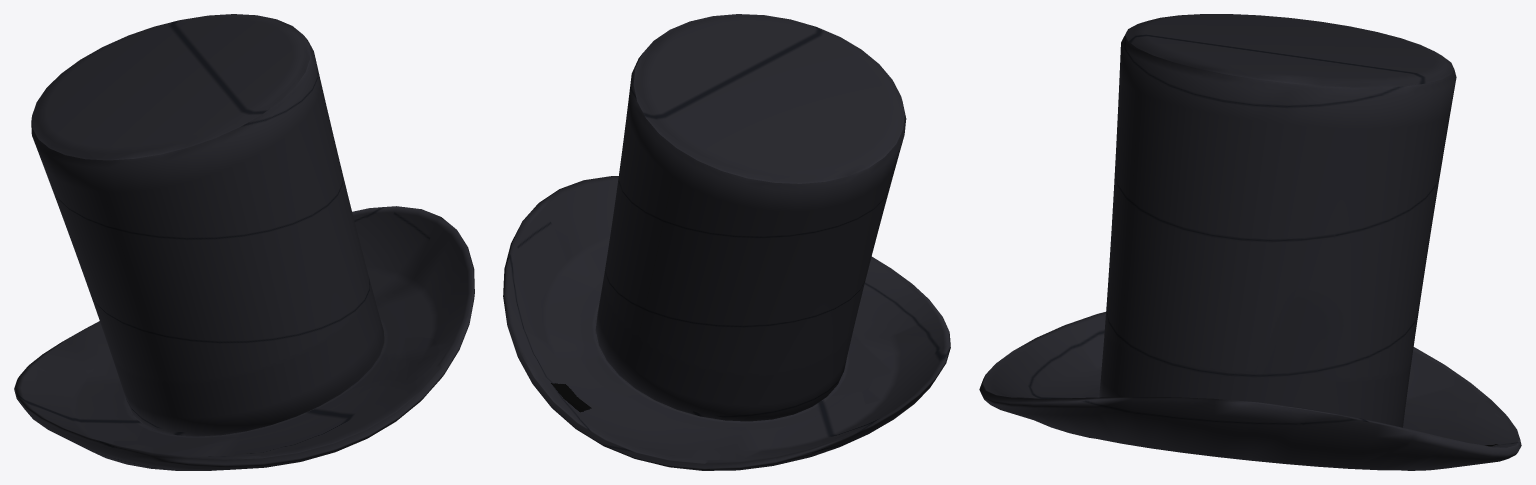
Rendered from Mascarada_Sombrero.fbx.
3 views of the same model, side by side, from view 1: azimuth 30°, elevation 25°; view 2: azimuth 150°, elevation 25°; view 3: azimuth 270°, elevation 25° (orthographic). The views are drawn at different scales.
Parts seen in each view (by area): view 1: Mascarada_Sombrero; view 2: Mascarada_Sombrero; view 3: Mascarada_Sombrero.
Part boxes in pixels (x1,y1,x2,y2): Mascarada_Sombrero: (14, 14, 474, 470); Mascarada_Sombrero: (503, 14, 950, 470); Mascarada_Sombrero: (979, 14, 1521, 470).
Size of the model in its own units: 1.67 by 1.48 by 1.71.
